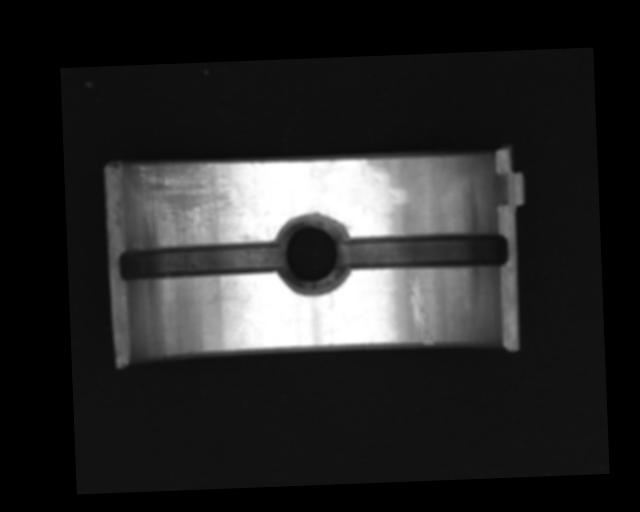gap: (342, 230, 509, 276), (117, 240, 279, 282)
hole: (274, 213, 352, 294)
nick: (406, 274, 434, 346)
scratch: (128, 157, 245, 247)
